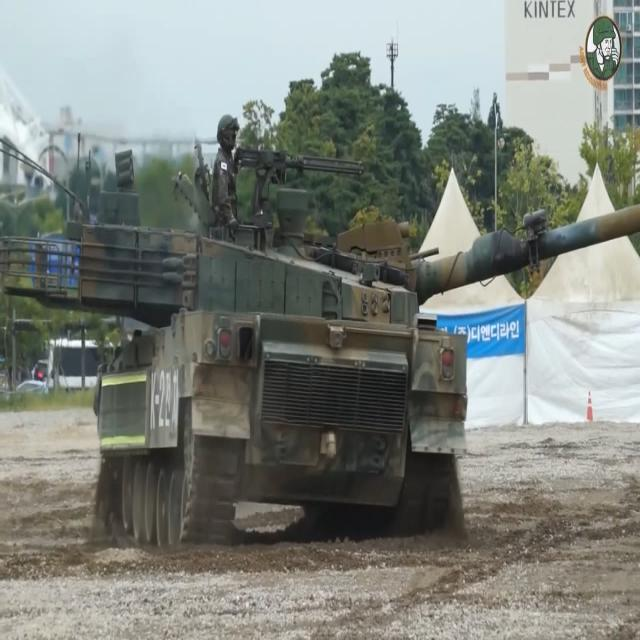korea tank: (0, 110, 640, 555)
